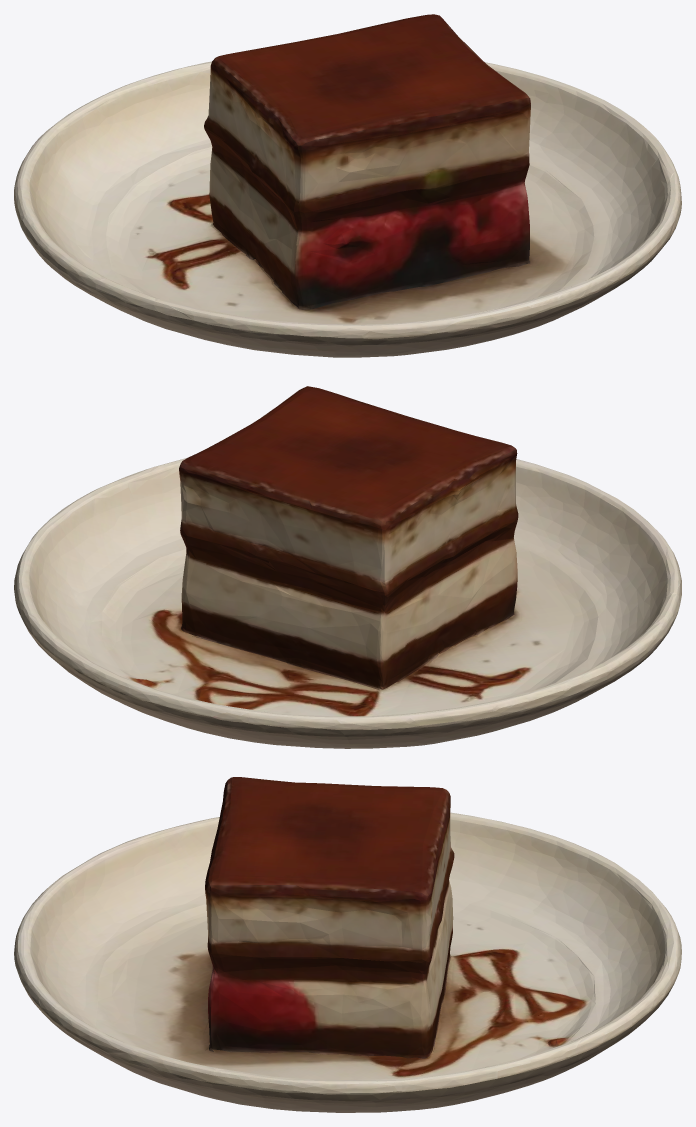
Rendered from dessert-for-two.glb.
3 views of the same model, one above another, from view 1: azimuth 30°, elevation 25°; view 2: azimuth 150°, elevation 25°; view 3: azimuth 270°, elevation 25° (orthographic).
Visible parts, largest first — view 1: world; view 2: world; view 3: world.
Boxes of the visible parts, x1,y1,x2,y2 form: world: [14, 14, 681, 357]; world: [14, 386, 681, 748]; world: [14, 777, 681, 1112].
Size of the model in its own units: 0.9972 by 0.3009 by 0.9982.
Materials: 1 (1 with a texture image).
